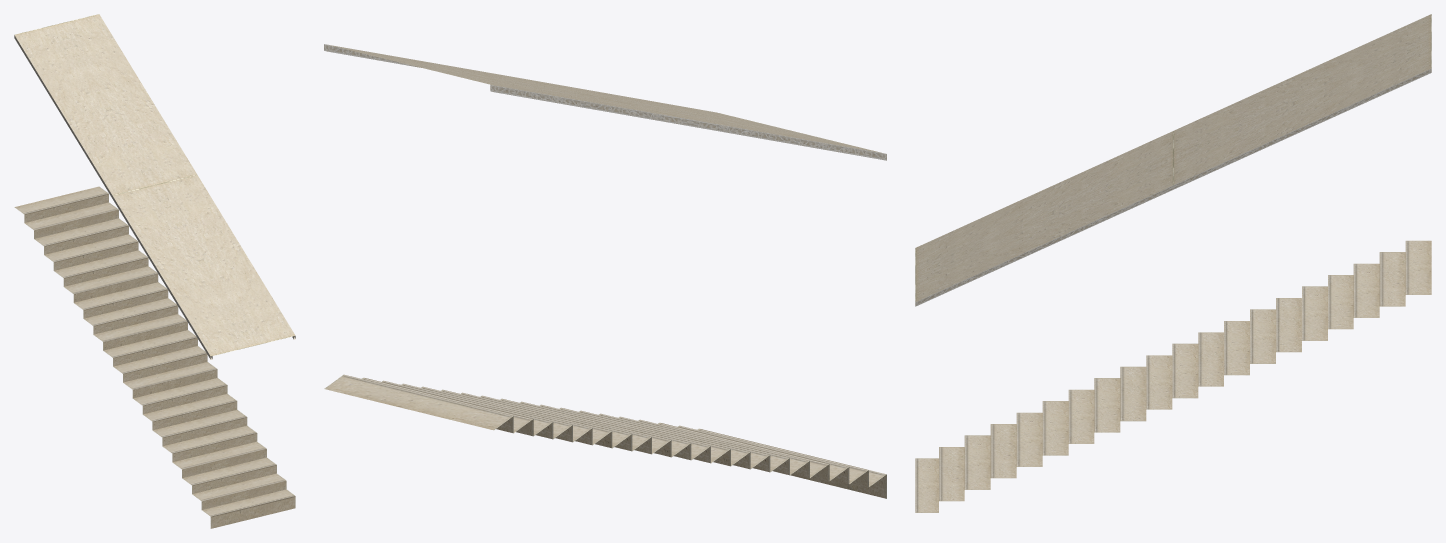
The model's file is dungeon_Tile_06_Additional.fbx.
3 views of the same model, side by side, from view 1: azimuth 30°, elevation 25°; view 2: azimuth 150°, elevation 25°; view 3: azimuth 270°, elevation 25° (orthographic). The views are drawn at different scales.
Parts seen in each view (by area): view 1: dungeon_Tile_06_Stairs_Roof_Additional, dungeon_Tile_06_Stairs_Wall_Additional; view 2: dungeon_Tile_06_Stairs_Wall_Additional, dungeon_Tile_06_Stairs_Roof_Additional; view 3: dungeon_Tile_06_Stairs_Roof_Additional, dungeon_Tile_06_Stairs_Wall_Additional.
Part boxes in pixels (x1,y1,x2,y2): dungeon_Tile_06_Stairs_Roof_Additional: [14, 14, 295, 359]; dungeon_Tile_06_Stairs_Wall_Additional: [14, 186, 295, 528]; dungeon_Tile_06_Stairs_Wall_Additional: [324, 374, 886, 498]; dungeon_Tile_06_Stairs_Roof_Additional: [324, 44, 886, 160]; dungeon_Tile_06_Stairs_Roof_Additional: [915, 14, 1431, 306]; dungeon_Tile_06_Stairs_Wall_Additional: [915, 240, 1431, 512].
Size of the model in its own units: 29.97 by 118 by 120.
